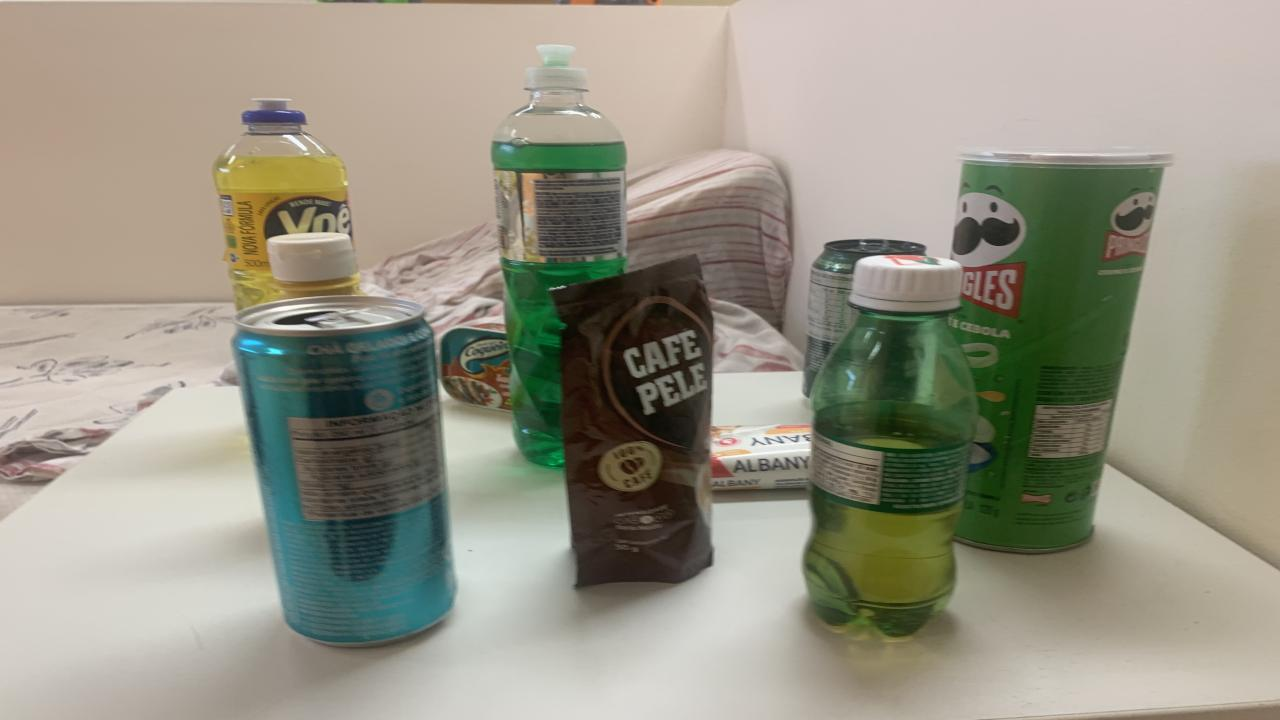Coffee-Pantry_Items: (550, 255, 712, 587)
Detergent-Cleanup_Items: (492, 45, 628, 469), (212, 99, 352, 309)
Guarana-Drinks: (805, 255, 978, 636)
Guarana_Can-Drinks: (802, 238, 925, 396)
Mustard-Pantry_Items: (268, 232, 362, 300)
Pringles-Snacks: (950, 146, 1172, 551)
Soap-Cleanup_Items: (710, 424, 812, 489)
Tea-Drinks: (232, 294, 455, 645)
Tuna_Can-Pantry_Items: (440, 317, 512, 411)
